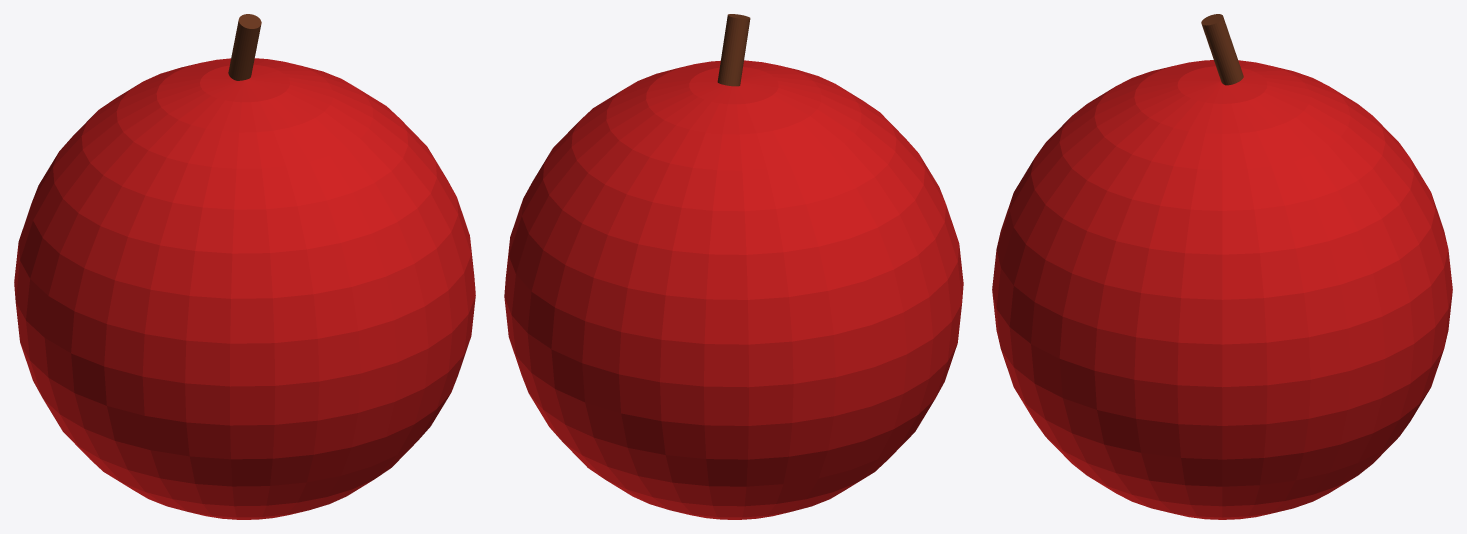
File: apple.obj
3 renders of one model, left to right at view 1: azimuth 30°, elevation 25°; view 2: azimuth 150°, elevation 25°; view 3: azimuth 270°, elevation 25°, orthographic.
Parts seen in each view (by area): view 1: Apple_Body, Stem; view 2: Apple_Body, Stem; view 3: Apple_Body, Stem.
Part boxes in pixels (x1=…): Apple_Body: x1=14, y1=58, x2=475, y2=519; Stem: x1=228, y1=14, x2=261, y2=80; Apple_Body: x1=504, y1=60, x2=963, y2=519; Stem: x1=717, y1=14, x2=750, y2=86; Apple_Body: x1=992, y1=60, x2=1452, y2=519; Stem: x1=1201, y1=14, x2=1243, y2=85.
Bounding box in the file's own units: 2 × 2.31 × 2.
